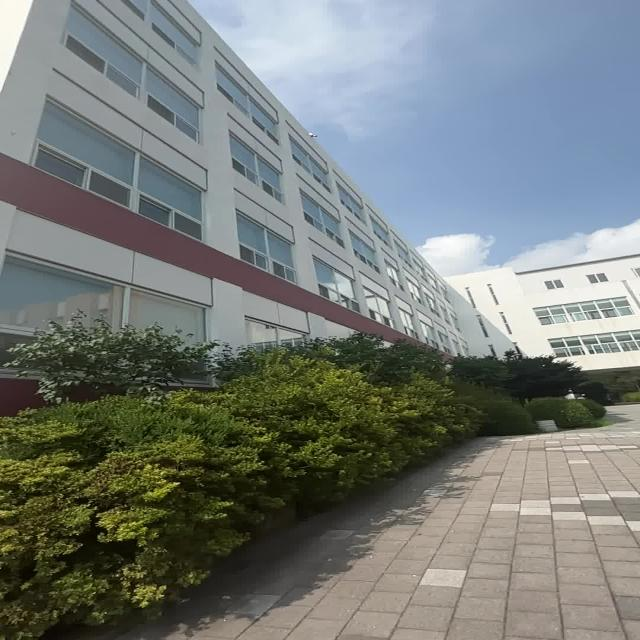building: (0, 0, 640, 352)
